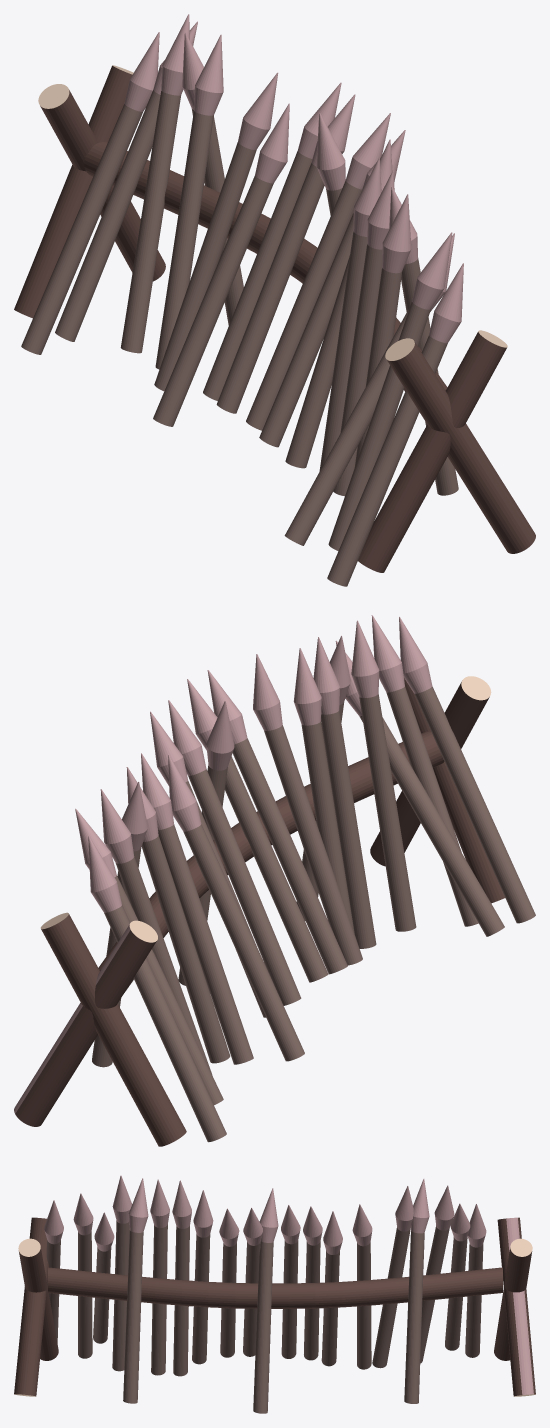
File: Wooden wall.fbx
3 views of the same model, one above another, from view 1: azimuth 30°, elevation 25°; view 2: azimuth 150°, elevation 25°; view 3: azimuth 270°, elevation 25° (orthographic). The views are drawn at different scales.
Visible parts, largest first — view 1: Cylinder.005; view 2: Cylinder.005; view 3: Cylinder.005.
Boxes of the visible parts, x1,y1,x2,y2 form: Cylinder.005: [14, 14, 535, 586]; Cylinder.005: [14, 615, 535, 1146]; Cylinder.005: [14, 1175, 535, 1413].
Bounding box in the file's own units: 126 × 179 × 389.
